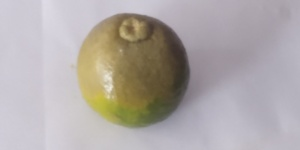BAD: (78, 10, 190, 129)
